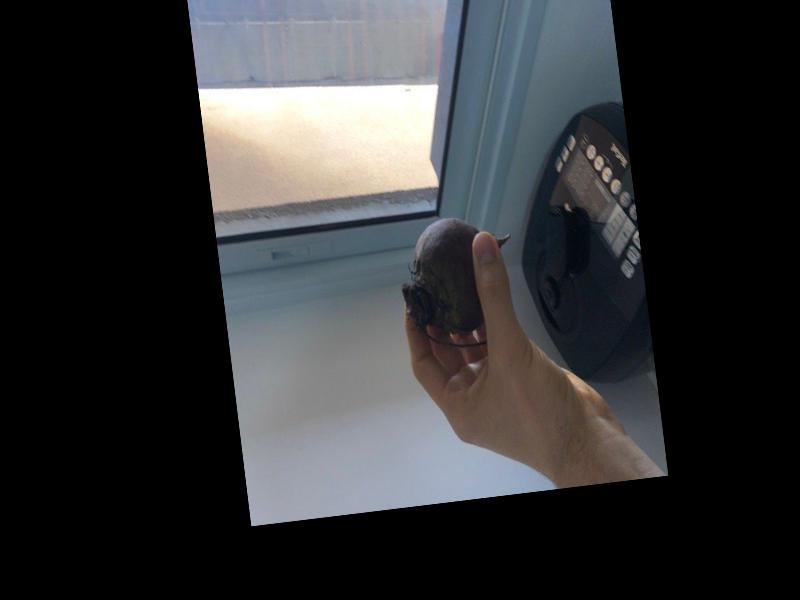Beet: (394, 211, 522, 352)
